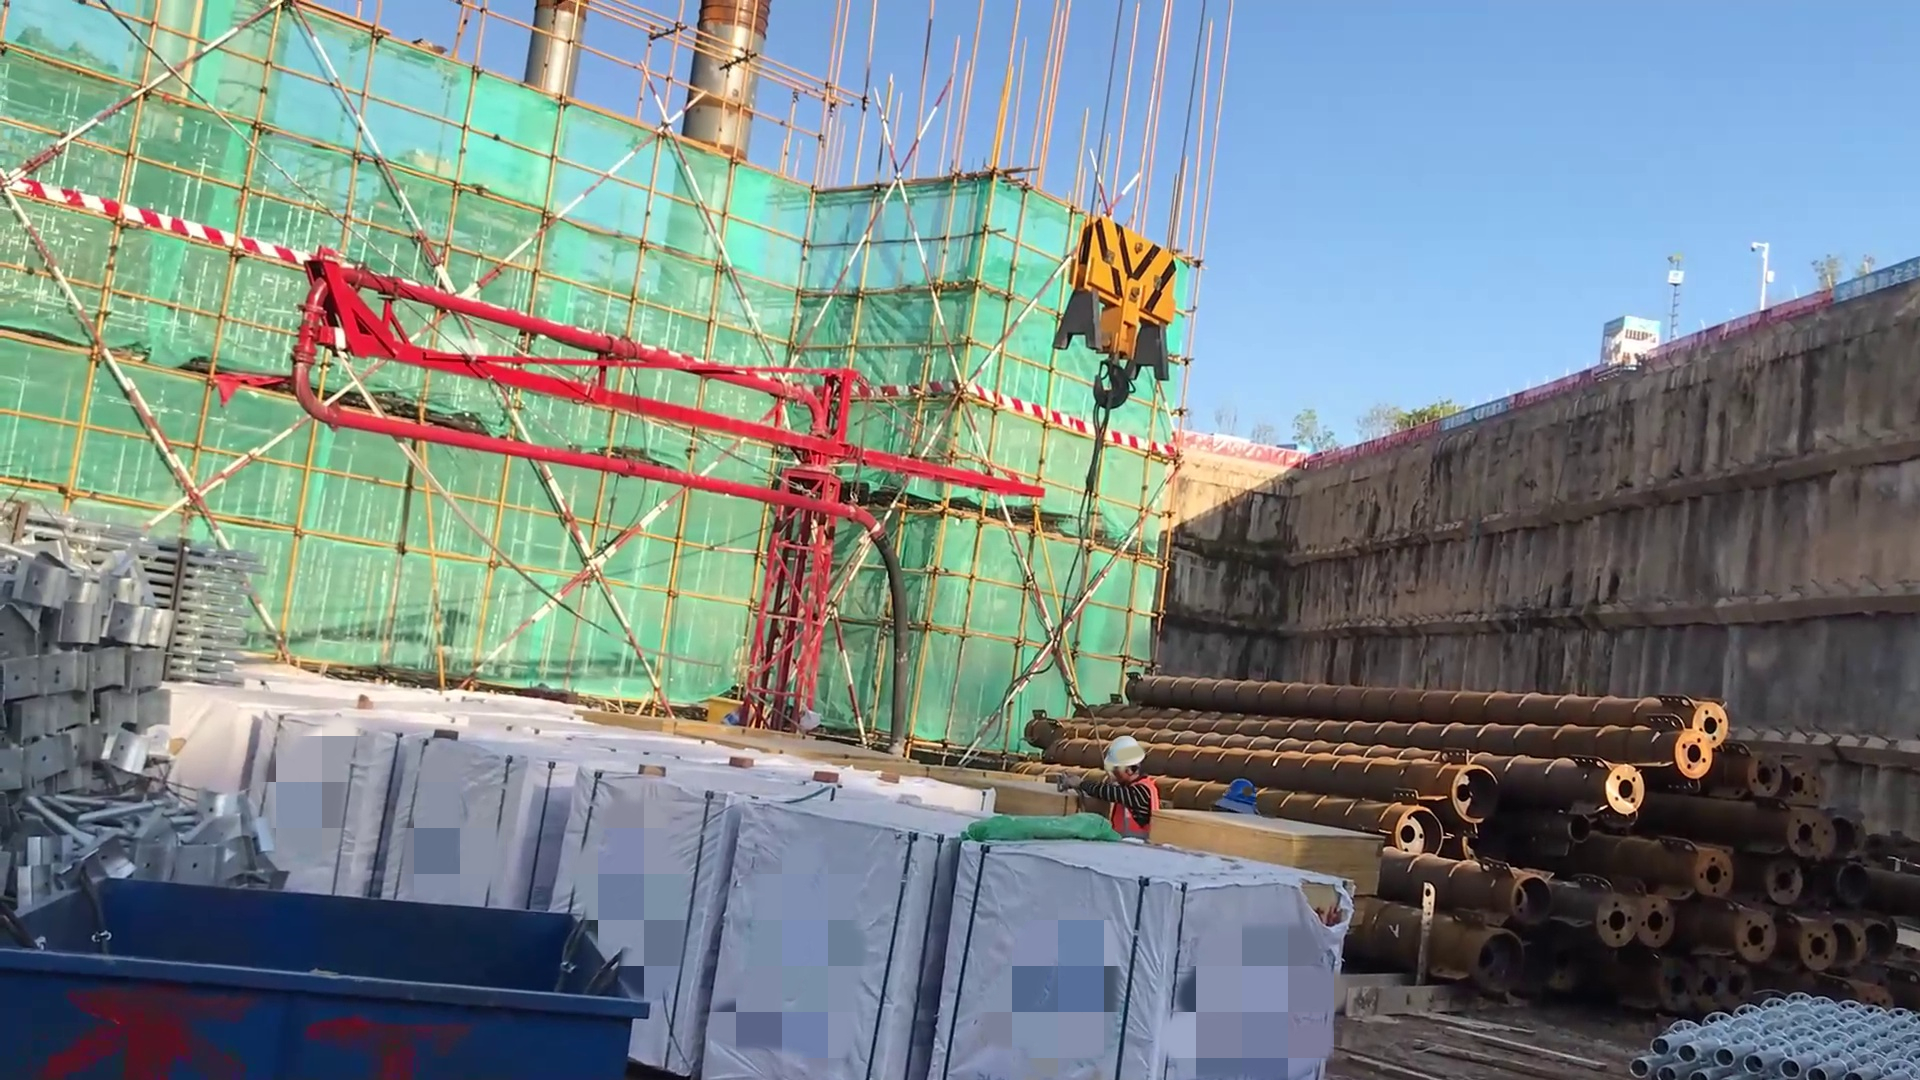board: (1143, 799, 1388, 904)
ebox: (697, 699, 773, 746)
helmet: (1095, 726, 1151, 780), (1211, 766, 1261, 826)
hook: (1056, 201, 1204, 430)
hopper: (1, 899, 666, 1077)
person: (1038, 727, 1175, 841)
scaffold: (25, 509, 279, 676), (1616, 985, 1920, 1076)
slogan: (1822, 257, 1920, 312), (1438, 399, 1512, 438)
vest: (1106, 776, 1163, 838)
